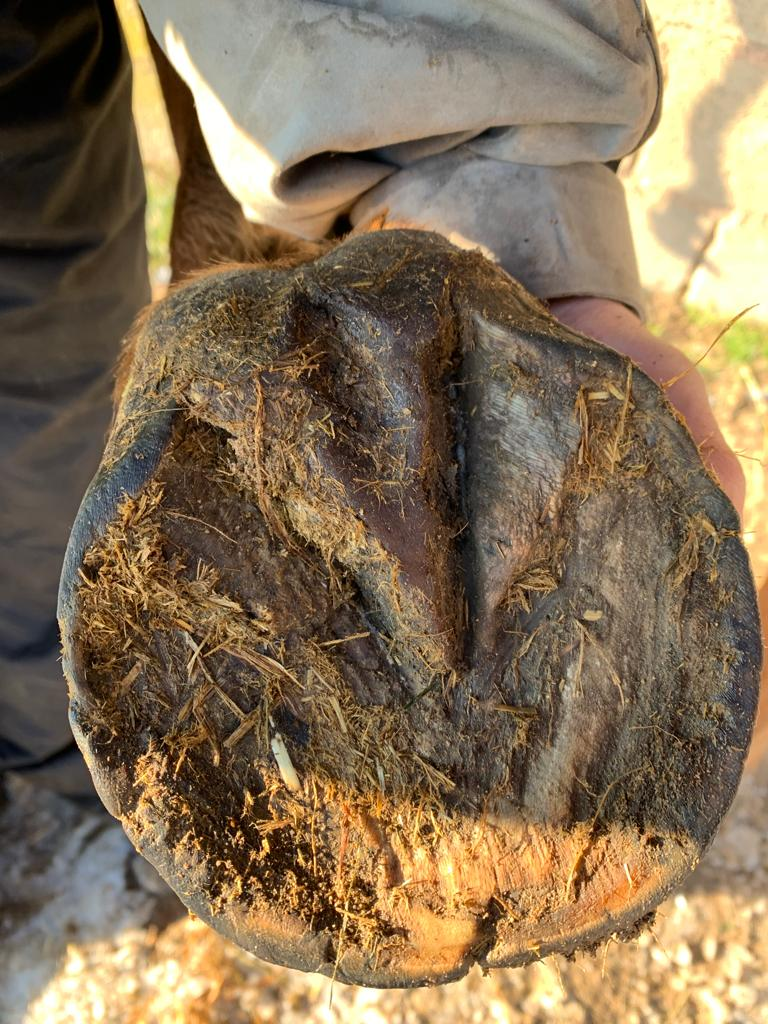horsesole: (54, 305, 762, 987)
